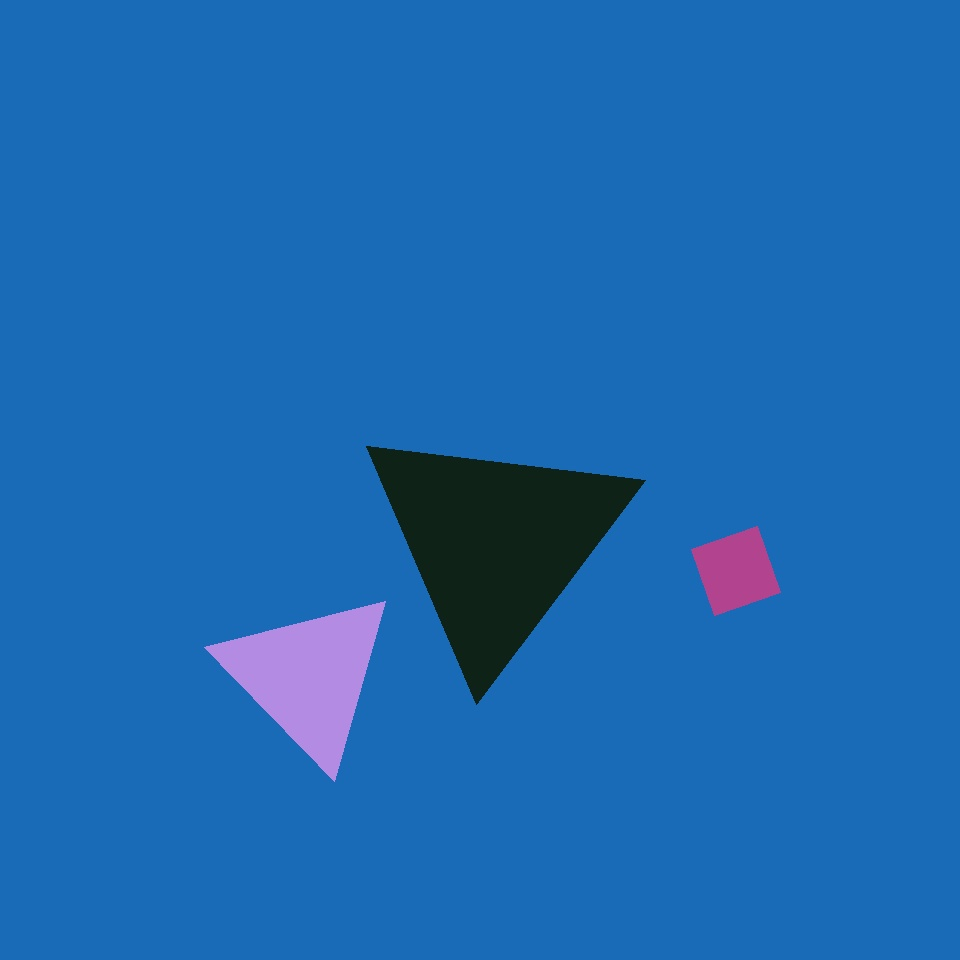circle: (357, 415, 636, 673), (218, 587, 399, 767)
square: (285, 314, 564, 592), (692, 526, 781, 616)
triangle: (398, 535, 731, 867), (634, 369, 937, 672), (53, 658, 324, 928)
